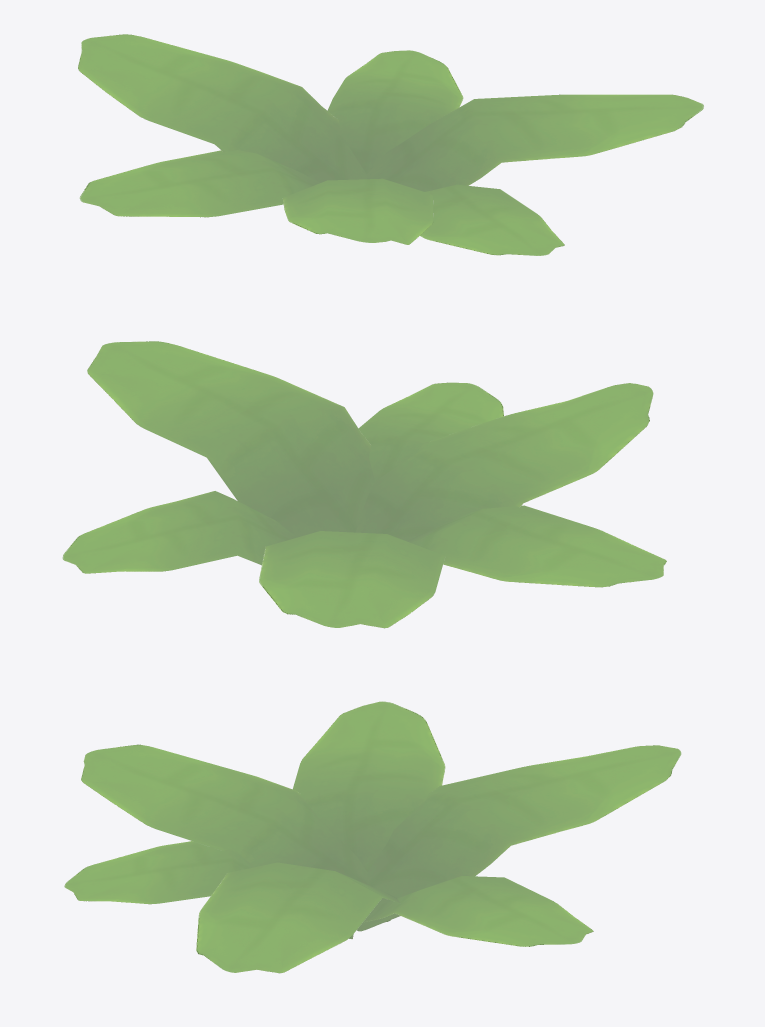
The model's file is Plant1.fbx.
The picture shows the model from 3 angles, top to bottom: view 1: azimuth 30°, elevation 25°; view 2: azimuth 150°, elevation 25°; view 3: azimuth 270°, elevation 25°; orthographic projection. The views are drawn at different scales.
Parts seen in each view (by area): view 1: Plant1.003; view 2: Plant1.003; view 3: Plant1.003.
Part boxes in pixels (x1,y1,x2,y2): Plant1.003: (78,34,703,255); Plant1.003: (62,341,666,628); Plant1.003: (64,701,681,973).
Size of the model in its own units: 60.58 by 9.75 by 58.19.
